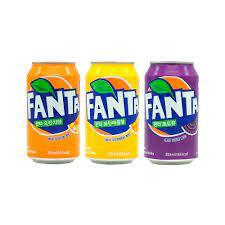fanta_orange: (26, 59, 82, 165)
